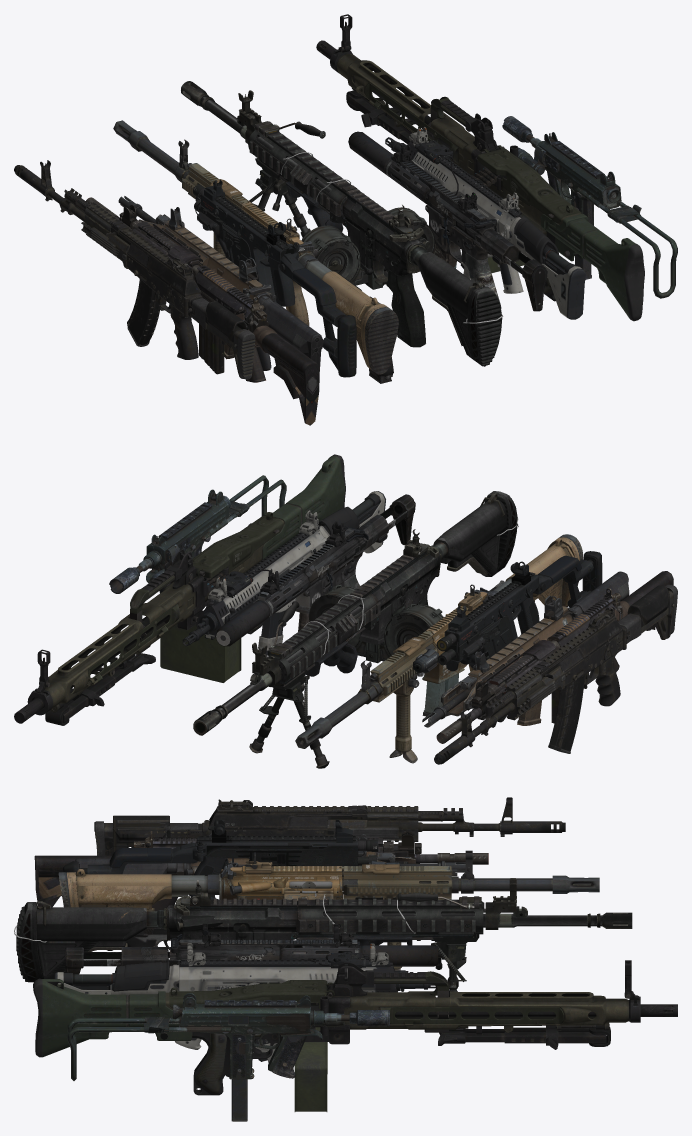
File: call_of_duty_ghost_-_weapons.glb
3 views of the same model, one above another, from view 1: azimuth 30°, elevation 25°; view 2: azimuth 150°, elevation 25°; view 3: azimuth 270°, elevation 25° (orthographic).
Visible parts, largest first — view 1: Object_25, Object_28, Object_29, Object_13, Object_12, Object_24, Object_15, Object_8, Object_26, Object_7, Object_17, Object_23 (+8 smaller); view 2: Object_28, Object_25, Object_13, Object_29, Object_12, Object_7, Object_8, Object_15, Object_26, Object_24, Object_17, Object_10 (+13 smaller); view 3: Object_25, Object_28, Object_29, Object_15, Object_24, Object_12, Object_26, Object_13, Object_7, Object_8, Object_10, Object_16 (+11 smaller).
Boxes of the visible parts, left/top/right/bottom form: Object_25: left=181, top=81, right=430, bottom=347; Object_28: left=316, top=14, right=582, bottom=223; Object_29: left=340, top=46, right=644, bottom=321; Object_13: left=348, top=131, right=547, bottom=311; Object_12: left=194, top=179, right=356, bottom=377; Object_24: left=502, top=116, right=677, bottom=298; Object_15: left=178, top=139, right=398, bottom=374; Object_8: left=128, top=237, right=255, bottom=379; Object_26: left=255, top=121, right=503, bottom=366; Object_7: left=14, top=160, right=193, bottom=346; Object_17: left=118, top=196, right=323, bottom=371; Object_23: left=192, top=265, right=319, bottom=425; Object_28: left=14, top=512, right=283, bottom=723; Object_25: left=193, top=529, right=441, bottom=735; Object_13: left=215, top=494, right=415, bottom=646; Object_29: left=39, top=454, right=345, bottom=725; Object_12: left=437, top=551, right=602, bottom=722; Object_7: left=434, top=607, right=615, bottom=764; Object_8: left=554, top=584, right=677, bottom=706; Object_15: left=360, top=534, right=583, bottom=702; Object_26: left=268, top=491, right=518, bottom=659; Object_24: left=109, top=475, right=286, bottom=593; Object_17: left=422, top=571, right=629, bottom=727; Object_10: left=182, top=525, right=326, bottom=657; Object_25: left=167, top=878, right=632, bottom=940; Object_28: left=169, top=960, right=677, bottom=1043; Object_29: left=33, top=962, right=630, bottom=1095; Object_15: left=58, top=850, right=474, bottom=911; Object_24: left=67, top=993, right=389, bottom=1121; Object_12: left=62, top=819, right=377, bottom=899; Object_26: left=14, top=896, right=481, bottom=982; Object_13: left=65, top=934, right=438, bottom=974; Object_7: left=218, top=797, right=565, bottom=841; Object_8: left=94, top=806, right=323, bottom=855; Object_10: left=175, top=959, right=435, bottom=1062; Object_16: left=171, top=873, right=599, bottom=899.
Bounding box in the file's own units: 47.47 × 14.58 × 61.92.
Materials: 22 (22 with a texture image).
